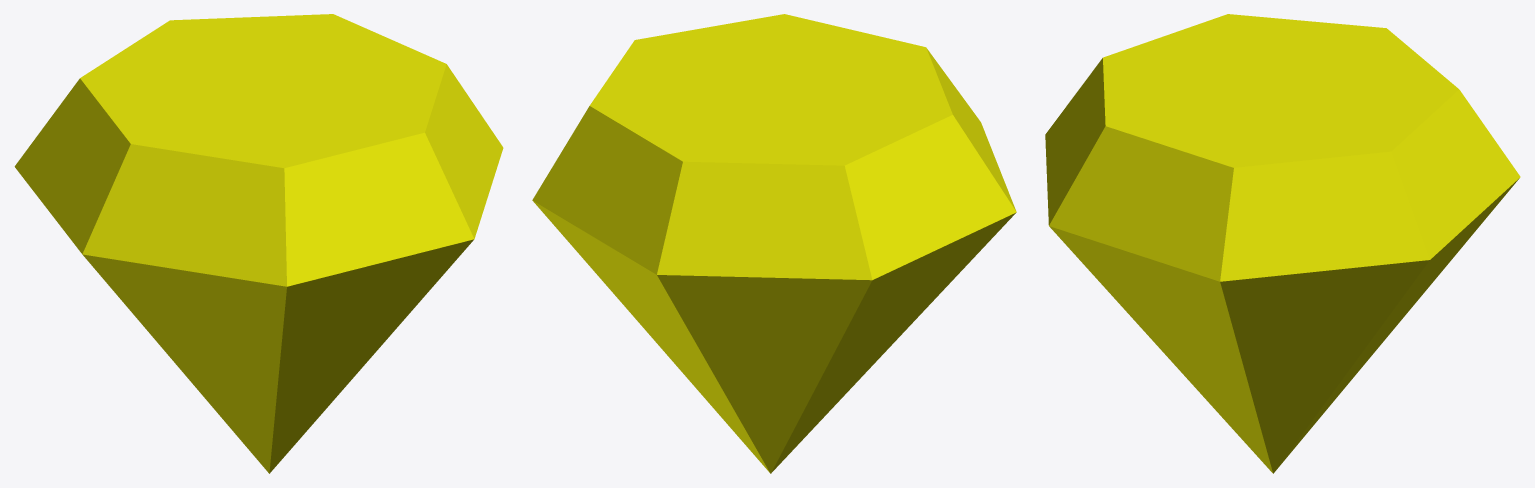
The model's file is DiamondRock.fbx.
The picture shows the model from 3 angles, left to right: view 1: azimuth 30°, elevation 25°; view 2: azimuth 150°, elevation 25°; view 3: azimuth 270°, elevation 25°; orthographic projection.
Visible parts, largest first — view 1: diamond_obj_Outline4; view 2: diamond_obj_Outline4; view 3: diamond_obj_Outline4.
Boxes of the visible parts, x1,y1,x2,y2 form: diamond_obj_Outline4: [14, 14, 503, 473]; diamond_obj_Outline4: [532, 14, 1016, 473]; diamond_obj_Outline4: [1045, 14, 1520, 473].
Size of the model in its own units: 181 by 157 by 177.
